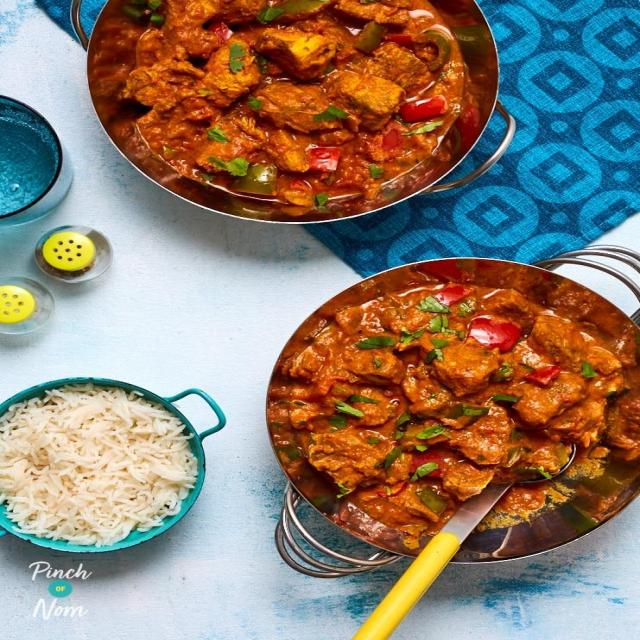chicken: (276, 279, 640, 542), (86, 0, 527, 212)
rice: (0, 385, 171, 534)
